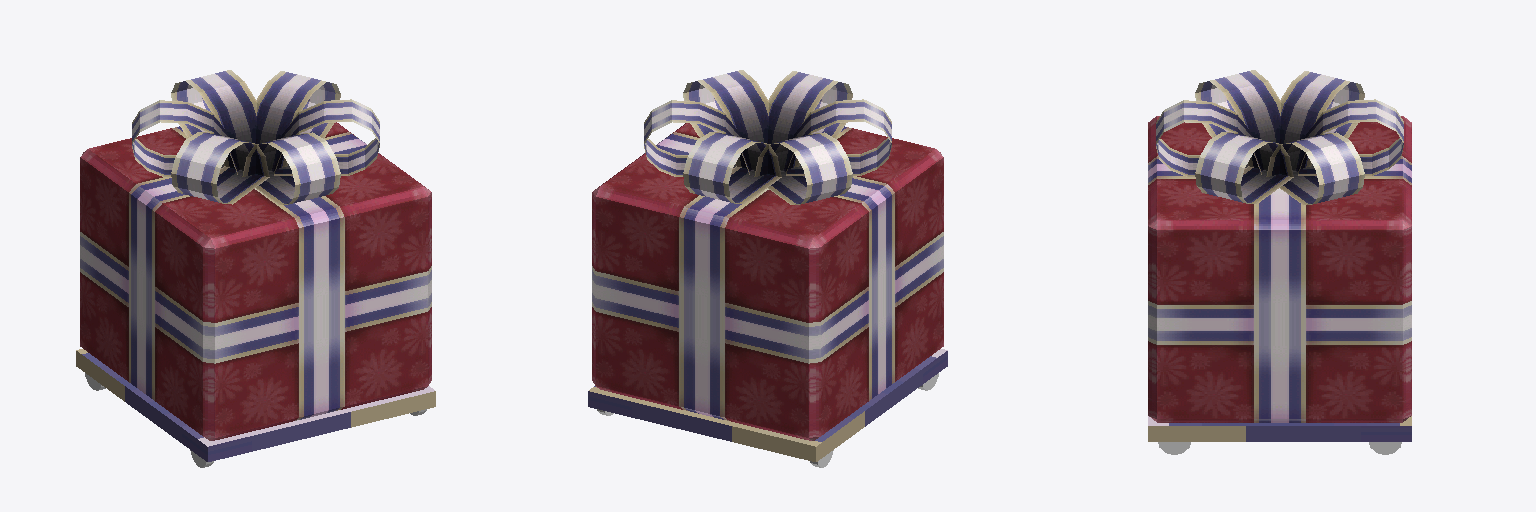
3 views of the same model, side by side, from view 1: azimuth 30°, elevation 25°; view 2: azimuth 150°, elevation 25°; view 3: azimuth 270°, elevation 25° (orthographic).
Visible parts, largest first — view 1: polygon0; view 2: polygon0; view 3: polygon0, polygon1.
Boxes of the visible parts, box(x1,y1,x2,y2) form: polygon0: box(76, 70, 435, 461); polygon0: box(588, 70, 947, 461); polygon0: box(1148, 70, 1411, 441); polygon1: box(1158, 442, 1401, 454).
Size of the model in its own units: 15 by 18.28 by 15.
Materials: 2 (1 with a texture image).